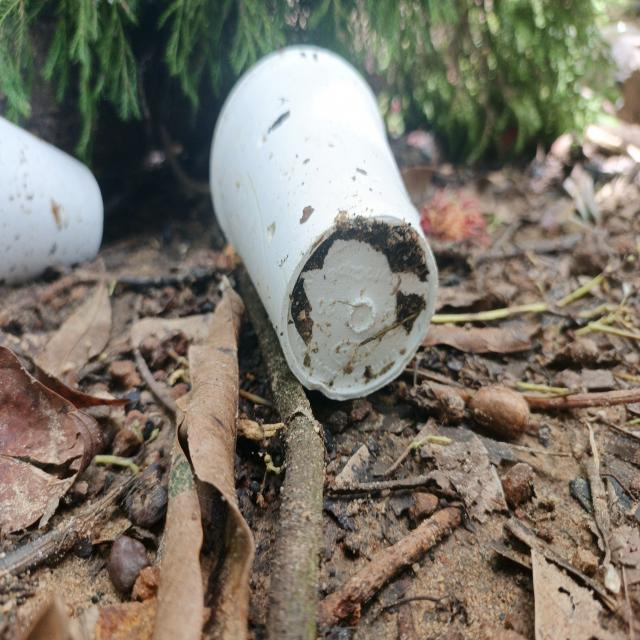plastic: (211, 41, 454, 410), (0, 107, 110, 267)
